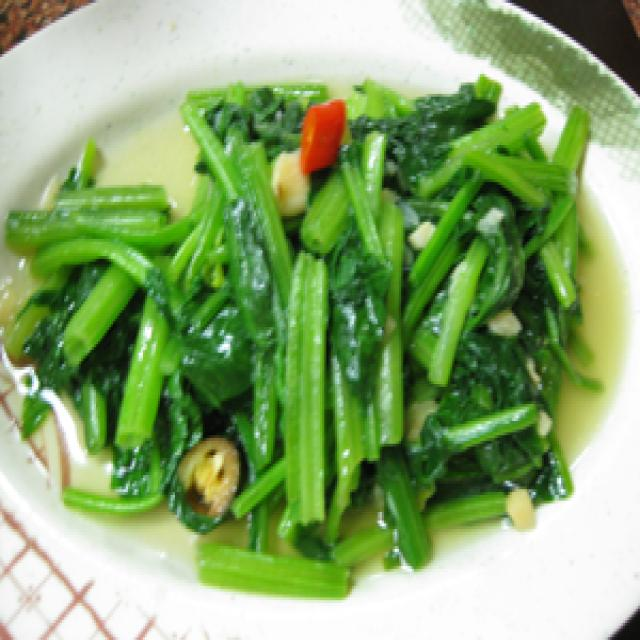蔬菜料理: (0, 34, 640, 615)
